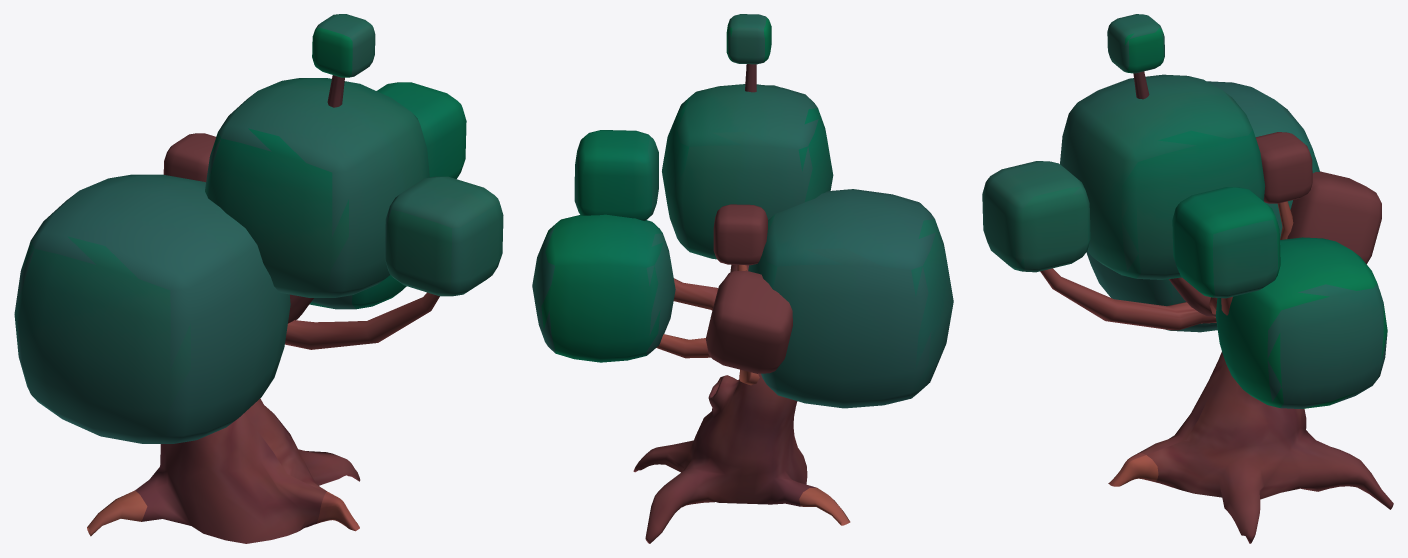
Rendered from arbolgordo1.glb.
3 renders of one model, left to right at view 1: azimuth 30°, elevation 25°; view 2: azimuth 150°, elevation 25°; view 3: azimuth 270°, elevation 25°, orthographic. The views are drawn at different scales.
Parts seen in each view (by area): view 1: Retopo_Tree.024_Base_Material_0.001; view 2: Retopo_Tree.024_Base_Material_0.001; view 3: Retopo_Tree.024_Base_Material_0.001.
Boxes of the visible parts, box(x1,y1,x2,y2) form: Retopo_Tree.024_Base_Material_0.001: box(14, 14, 503, 543); Retopo_Tree.024_Base_Material_0.001: box(532, 14, 953, 543); Retopo_Tree.024_Base_Material_0.001: box(982, 14, 1393, 543).
Bounding box in the file's own units: 12.51 × 14.45 × 10.87.
1 material, 1 textured.
